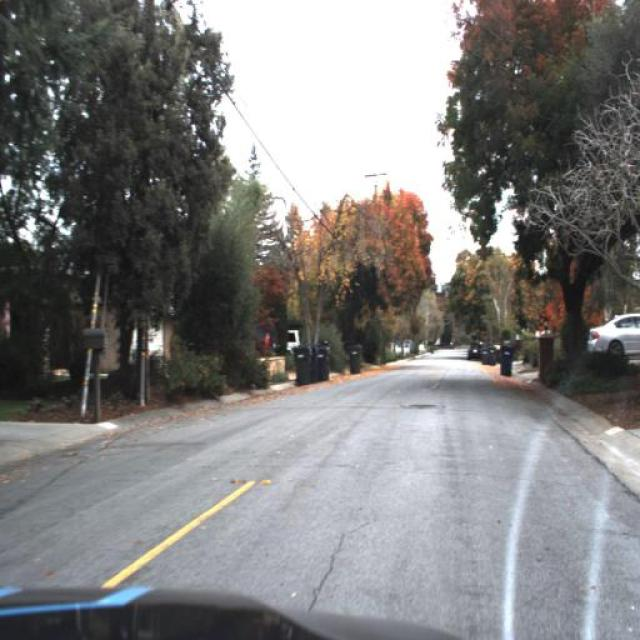car: (585, 302, 637, 368), (279, 326, 301, 350)
